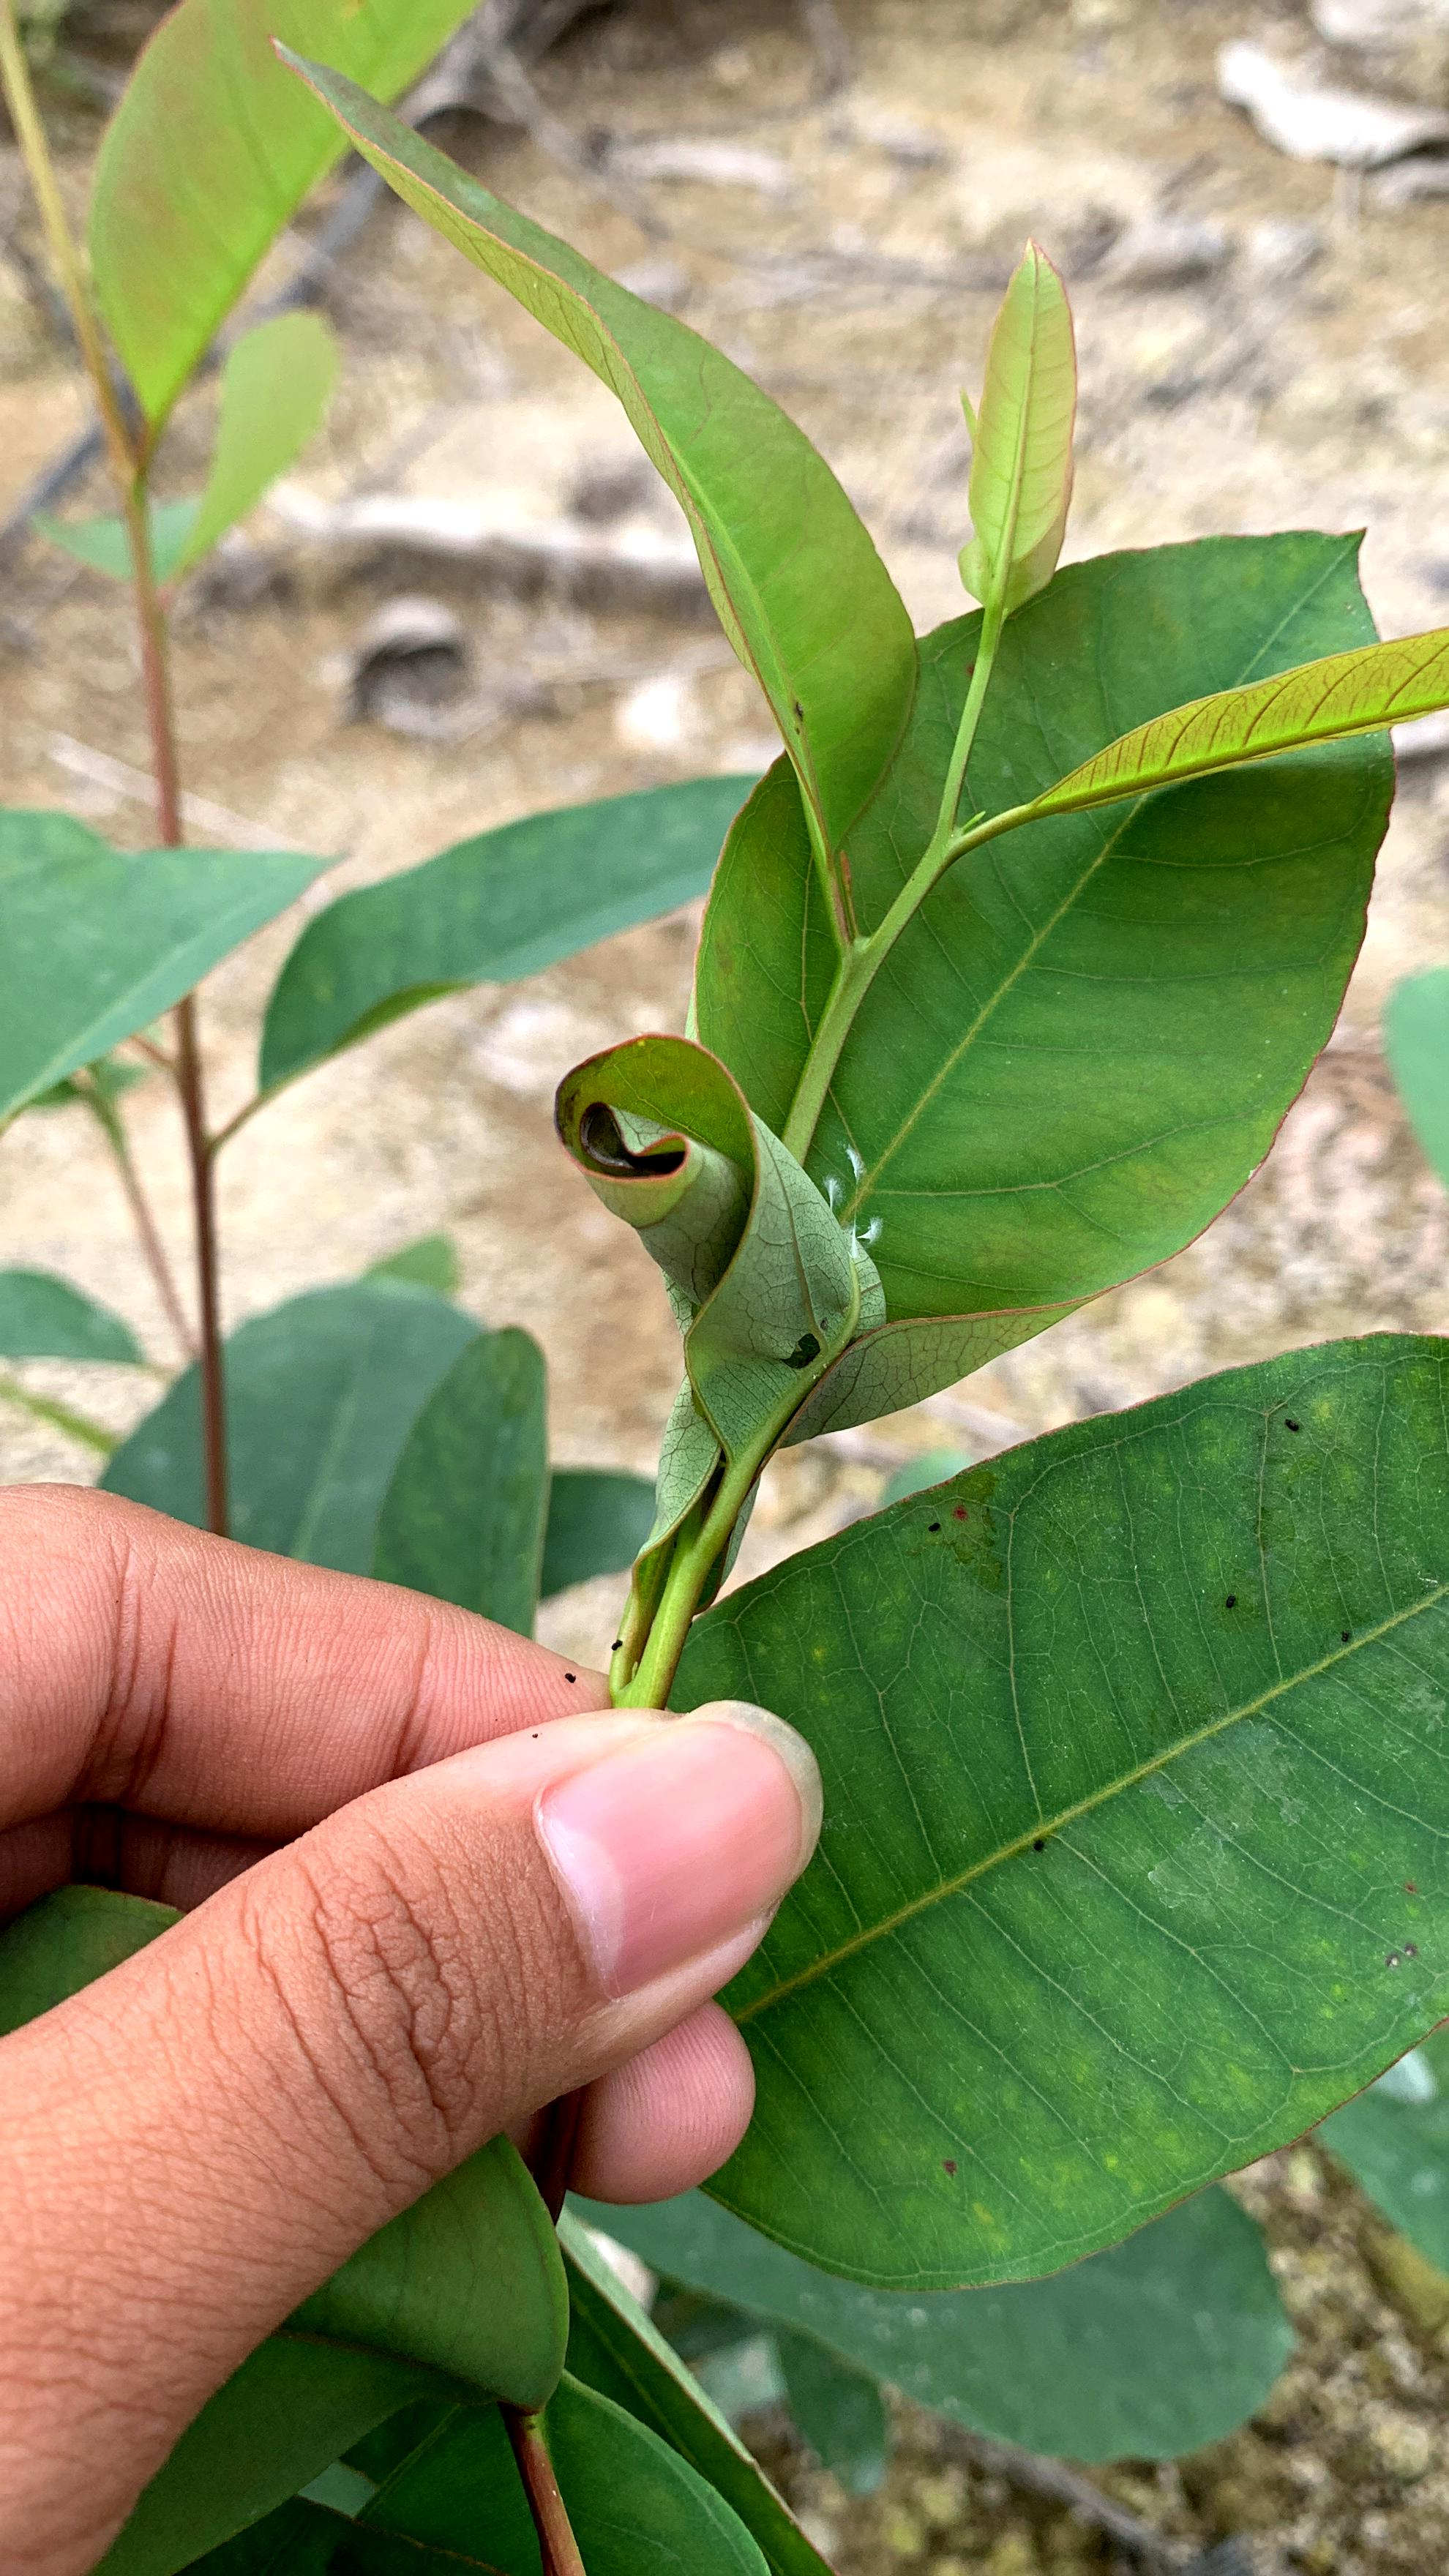Leaf Roller - Leaf: (520, 1051, 890, 1369)
